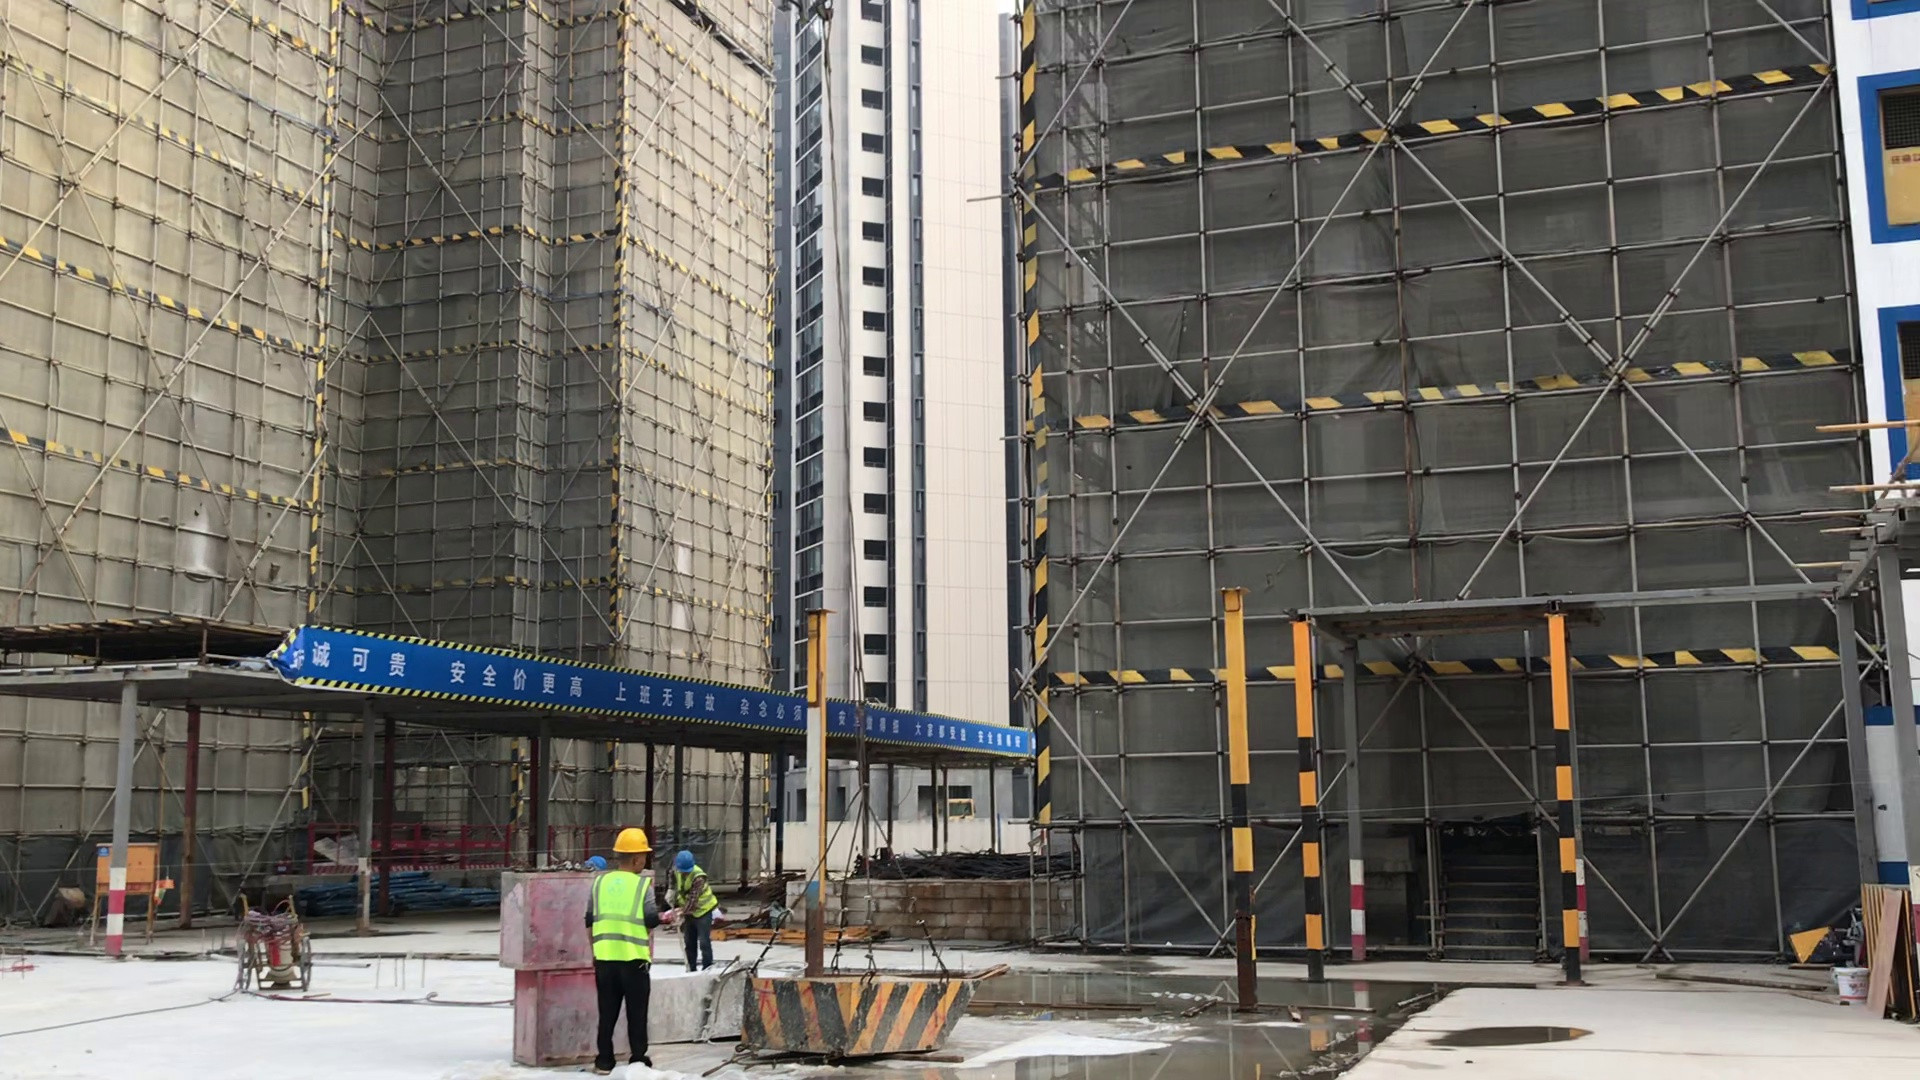ebox: (92, 843, 161, 892)
fence: (308, 825, 613, 876)
handcart: (235, 889, 311, 993)
helmet: (612, 827, 651, 853), (675, 849, 693, 871), (587, 854, 606, 869)
hopper: (750, 968, 986, 1054), (652, 970, 763, 1037)
person: (589, 827, 659, 1076), (665, 850, 717, 974)
slogan: (289, 624, 1025, 753)
vest: (594, 872, 653, 964), (678, 867, 719, 917)
